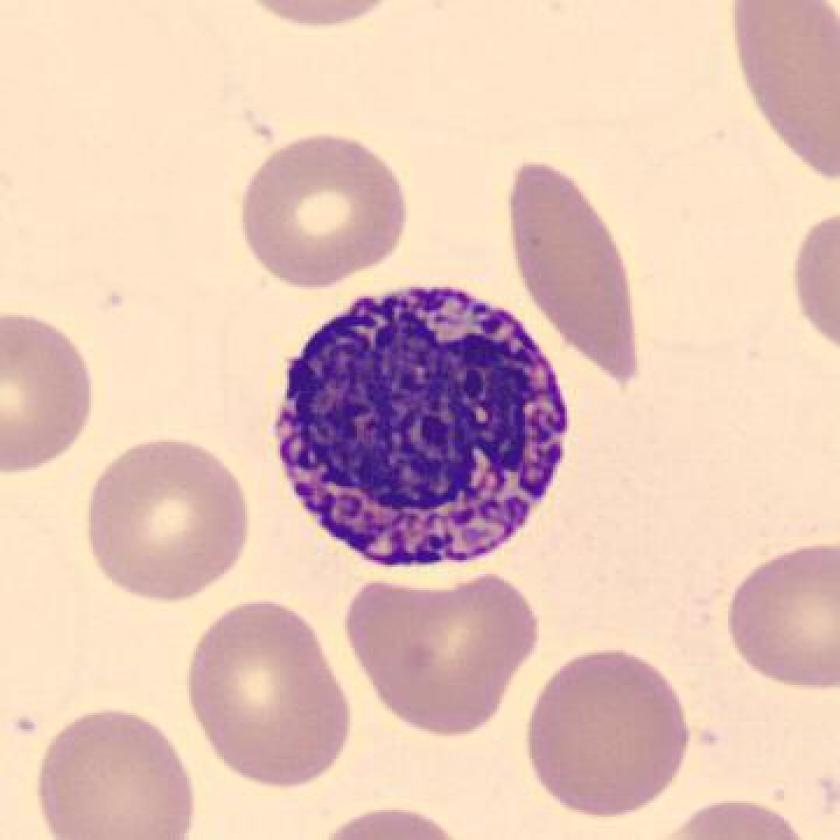basophil: (267, 286, 575, 577)
